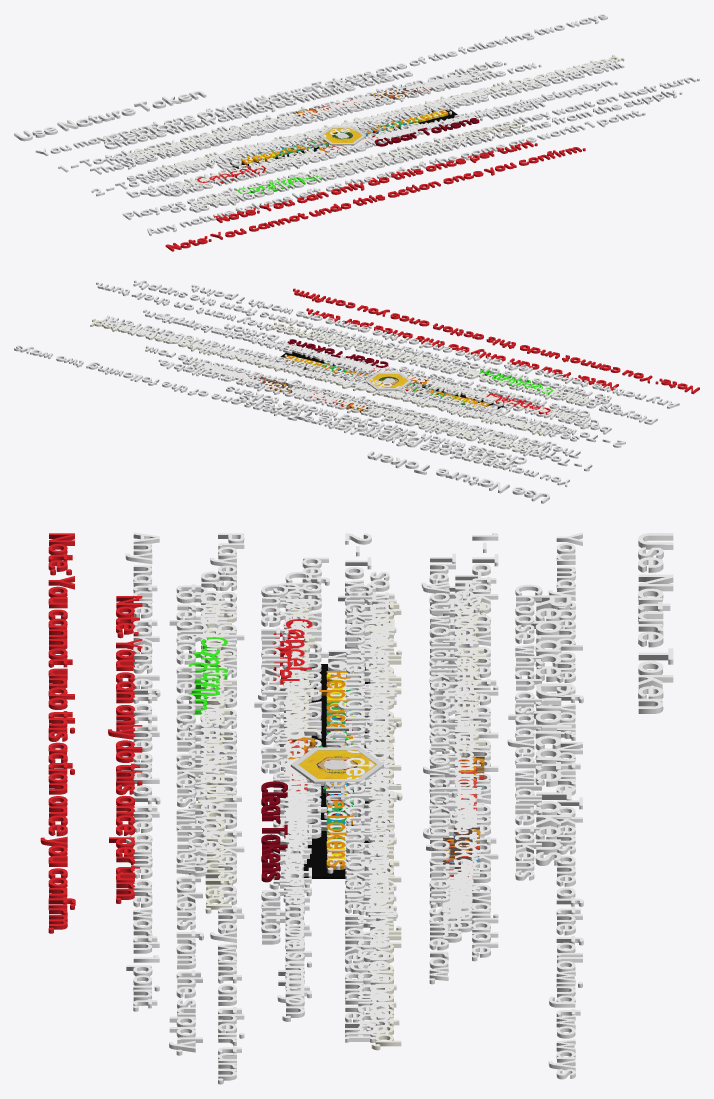
Rendered from cascadia-final.glb.
3 renders of one model, top to bottom at view 1: azimuth 30°, elevation 25°; view 2: azimuth 150°, elevation 25°; view 3: azimuth 270°, elevation 25°, orthographic. The views are drawn at different scales.
Parts seen in each view (by area): view 1: use-nature-token, nature-clear, 3-duplicate-token, no-valid-placement, nature-no-valid-placement, all-duplicate-token, last-turn, replace, nature-turn-token; view 2: use-nature-token, nature-clear, 3-duplicate-token, no-valid-placement, nature-no-valid-placement, all-duplicate-token, last-turn, replace; view 3: use-nature-token, nature-clear, 3-duplicate-token, no-valid-placement, nature-no-valid-placement, all-duplicate-token, replace, last-turn, nature-turn-token, desert, tile-edge, all-duplicate-token-salmon (+1 smaller).
Boxes of the visible parts, x1,y1,x2,y2 form: use-nature-token: [14, 14, 699, 251]; nature-clear: [104, 71, 682, 212]; 3-duplicate-token: [104, 59, 617, 222]; no-valid-placement: [102, 61, 617, 212]; nature-no-valid-placement: [118, 60, 618, 211]; all-duplicate-token: [134, 54, 624, 203]; last-turn: [174, 88, 493, 183]; replace: [230, 109, 457, 168]; nature-turn-token: [217, 110, 451, 169]; use-nature-token: [14, 282, 699, 503]; nature-clear: [133, 280, 611, 464]; 3-duplicate-token: [100, 308, 618, 468]; no-valid-placement: [113, 309, 620, 458]; nature-no-valid-placement: [105, 318, 608, 451]; all-duplicate-token: [90, 318, 588, 450]; last-turn: [223, 339, 550, 431]; replace: [280, 351, 503, 411]; use-nature-token: [40, 532, 673, 1084]; nature-clear: [169, 584, 542, 1055]; 3-duplicate-token: [108, 594, 571, 1042]; no-valid-placement: [201, 571, 481, 1025]; nature-no-valid-placement: [188, 583, 468, 1036]; all-duplicate-token: [198, 602, 486, 1050]; replace: [303, 664, 370, 878]; last-turn: [278, 619, 394, 916]; nature-turn-token: [320, 650, 354, 873]; desert: [298, 750, 376, 778]; tile-edge: [291, 747, 383, 785]; all-duplicate-token-salmon: [289, 740, 484, 865].
Size of the model in its own units: 30.65 by 0.2101 by 14.94.
Materials: 38 (38 with a texture image).
